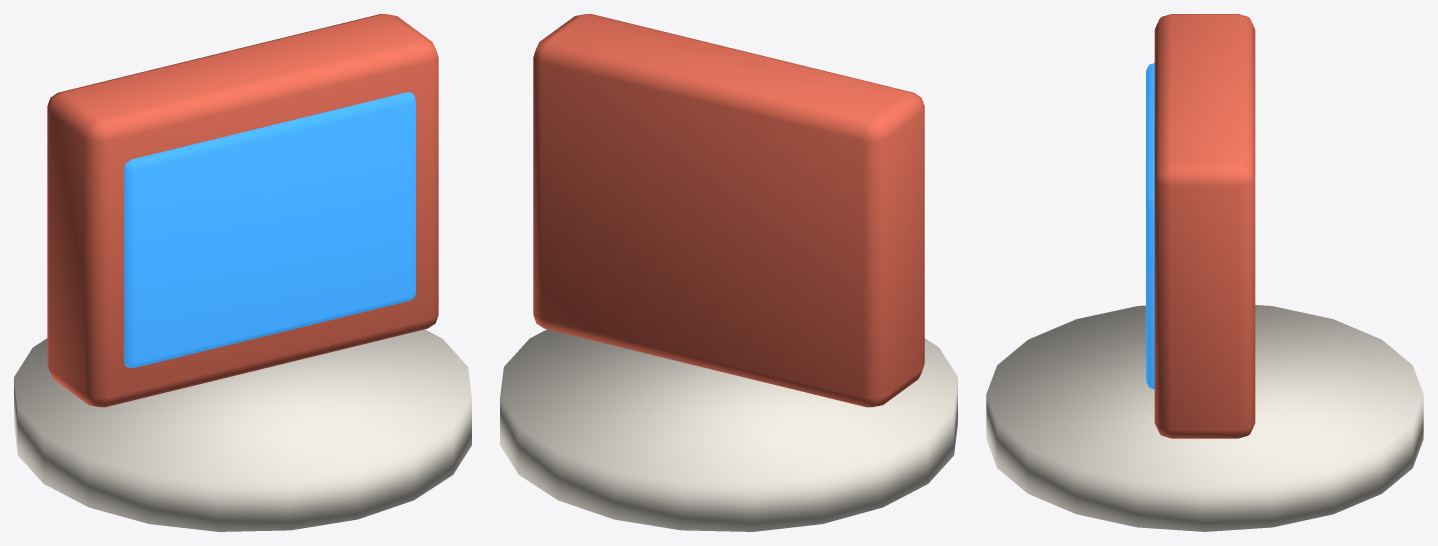
Rendered from Diagram_FrontendNode.fbx.
3 views of the same model, side by side, from view 1: azimuth 30°, elevation 25°; view 2: azimuth 150°, elevation 25°; view 3: azimuth 270°, elevation 25° (orthographic). The views are drawn at different scales.
Parts seen in each view (by area): view 1: Node_Plinth, Frontend_Frame, Frontend_Screen; view 2: Frontend_Frame, Node_Plinth; view 3: Node_Plinth, Frontend_Frame, Frontend_Screen.
Boxes of the visible parts, bbox=[...] form: Node_Plinth: bbox=[14, 329, 471, 531]; Frontend_Frame: bbox=[47, 14, 438, 407]; Frontend_Screen: bbox=[124, 92, 415, 367]; Frontend_Frame: bbox=[533, 14, 924, 407]; Node_Plinth: bbox=[500, 329, 957, 531]; Node_Plinth: bbox=[986, 305, 1423, 531]; Frontend_Frame: bbox=[1154, 14, 1255, 438]; Frontend_Screen: bbox=[1146, 63, 1154, 389].
Size of the model in its own units: 5.2 by 4.6 by 5.2.
